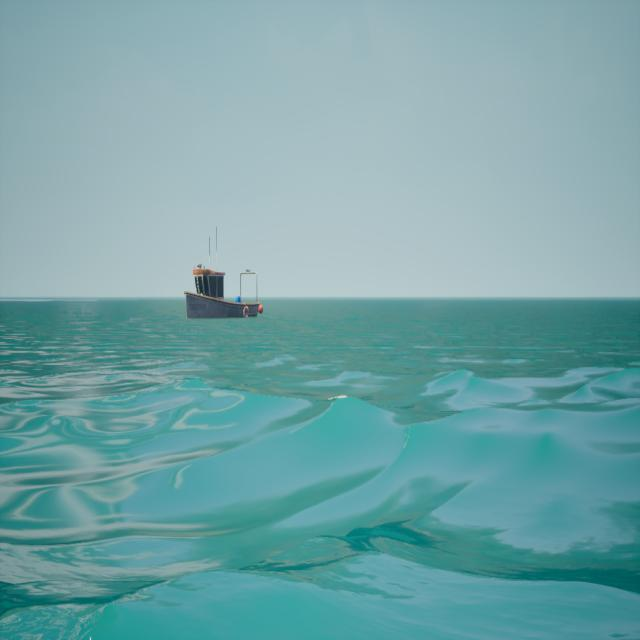ship: (176, 223, 270, 333)
